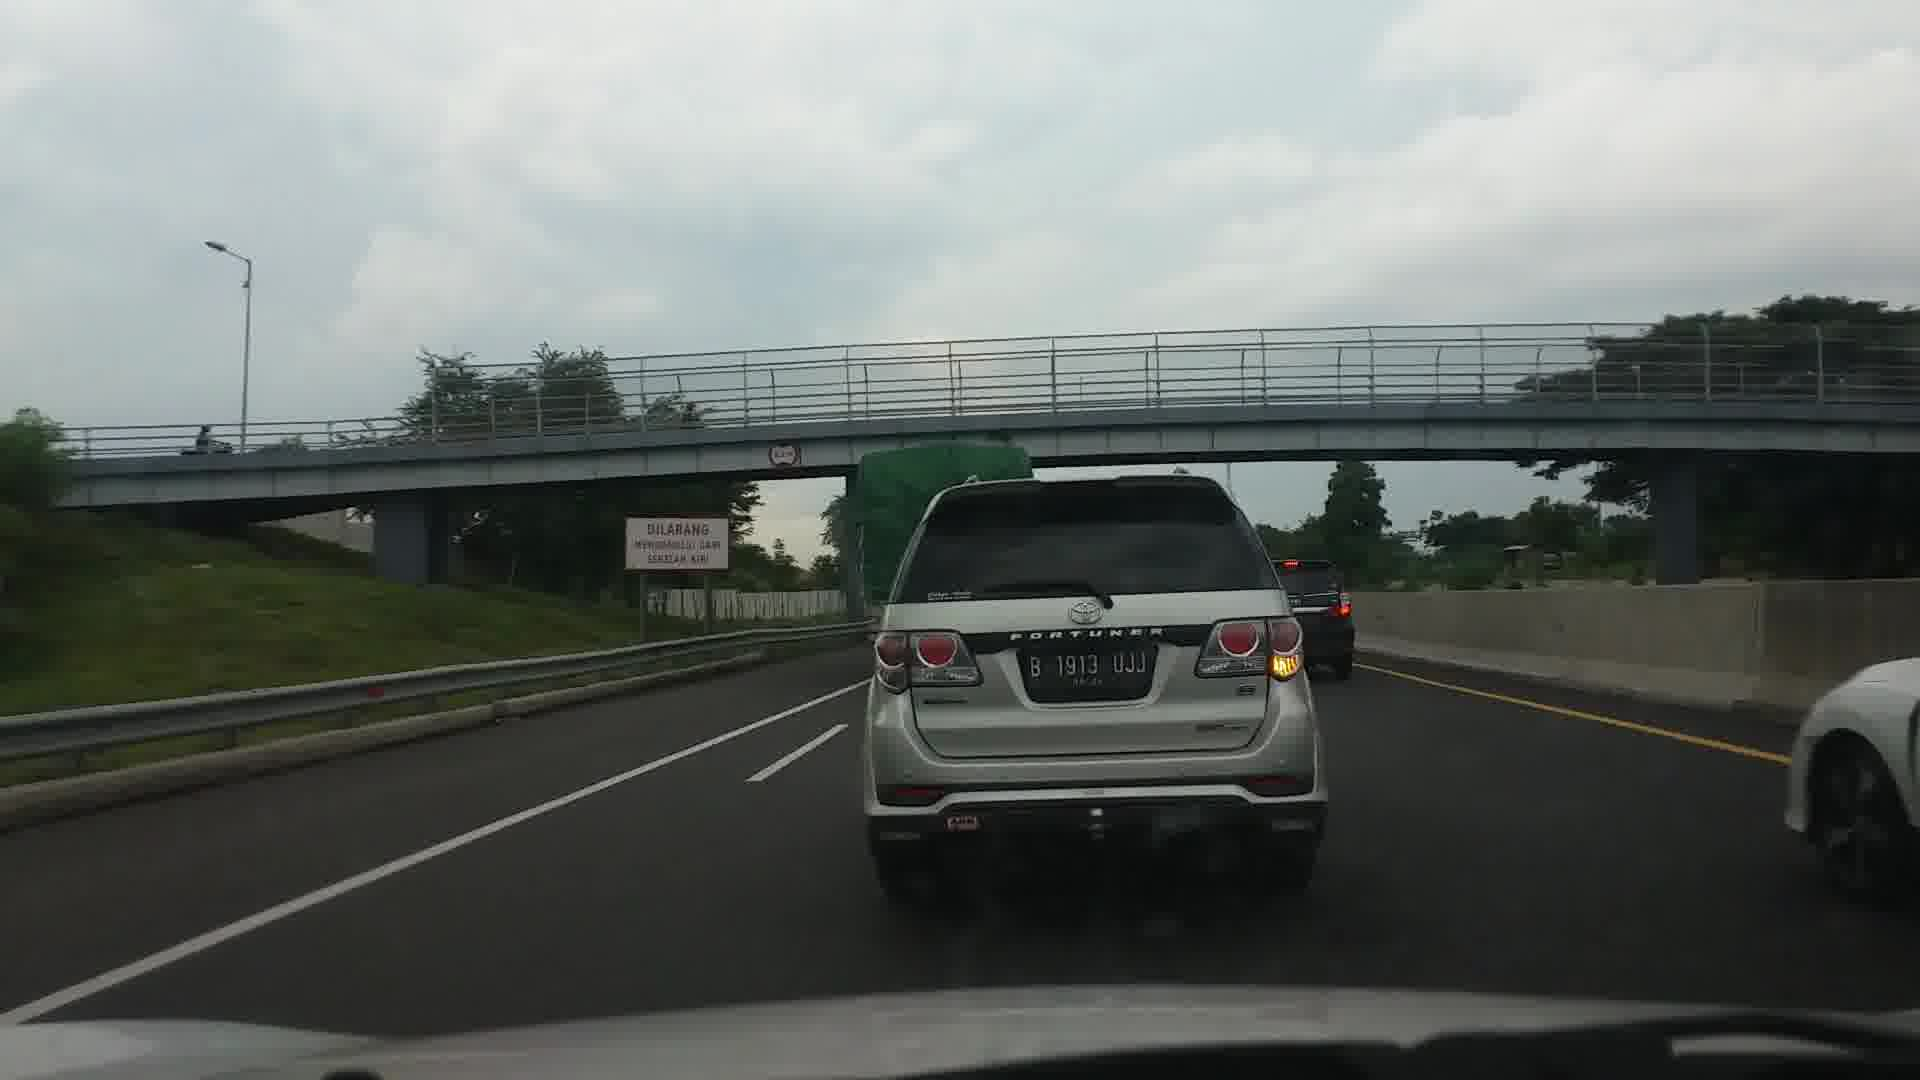plate_positive: (1025, 647, 1153, 688)
